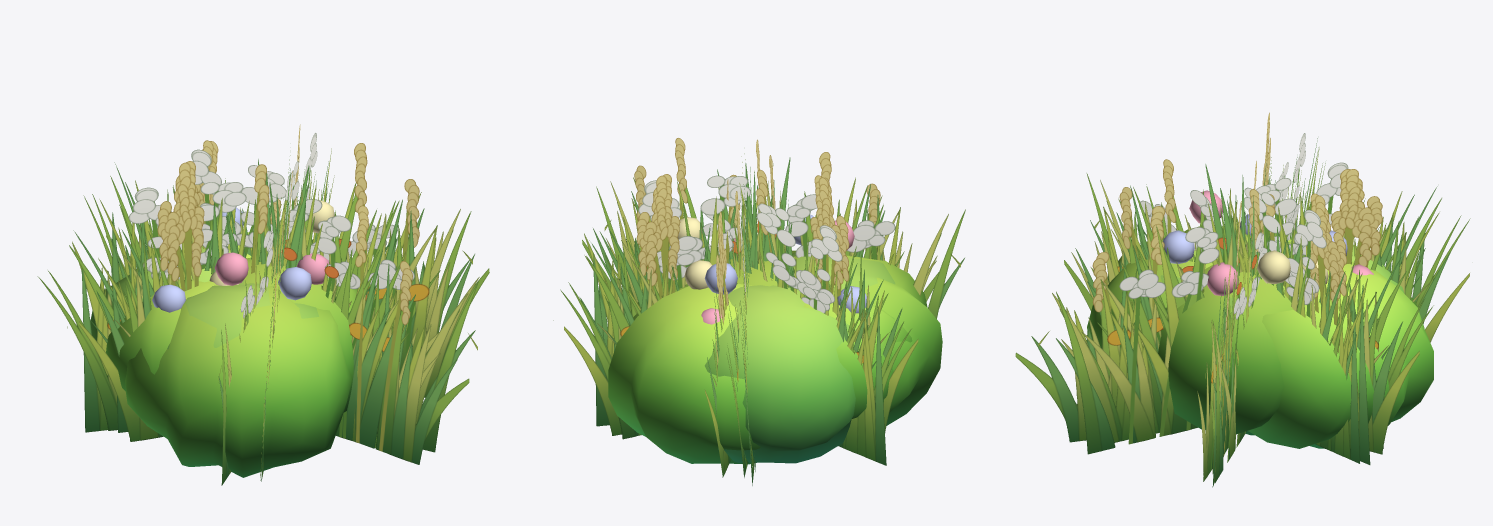
Rendered from undergrowth.glb.
3 renders of one model, left to right at view 1: azimuth 30°, elevation 25°; view 2: azimuth 150°, elevation 25°; view 3: azimuth 270°, elevation 25°, orthographic. The views are drawn at different scales.
Visible parts, largest first — view 1: Bush0, Fern1, Fern2, Fern3, Fern0, Bush1; view 2: Bush0, Bush1, Fern2, Fern1, Fern3, Fern0; view 3: Bush0, Fern2, Fern1, Fern3, Fern0, Bush1.
Part boxes in pixels (x1=…): Bush0: x1=106, y1=232, x2=357, y2=477; Fern1: x1=79, y1=124, x2=489, y2=481; Fern2: x1=72, y1=133, x2=478, y2=485; Fern3: x1=37, y1=155, x2=479, y2=480; Fern0: x1=67, y1=159, x2=477, y2=474; Bush1: x1=90, y1=200, x2=334, y2=349; Bush0: x1=608, y1=250, x2=942, y2=464; Bush1: x1=677, y1=215, x2=895, y2=463; Fern2: x1=584, y1=153, x2=965, y2=471; Fern1: x1=564, y1=138, x2=938, y2=477; Fern3: x1=560, y1=157, x2=937, y2=477; Fern0: x1=553, y1=163, x2=960, y2=485; Bush0: x1=1087, y1=226, x2=1433, y2=448; Fern2: x1=1056, y1=133, x2=1402, y2=482; Fern1: x1=1015, y1=112, x2=1469, y2=487; Fern3: x1=1061, y1=138, x2=1470, y2=481; Fern0: x1=1038, y1=157, x2=1439, y2=473; Bush1: x1=1160, y1=190, x2=1404, y2=307.
Size of the model in its own units: 1.41 by 1.08 by 1.36.
2 materials, 1 textured.
